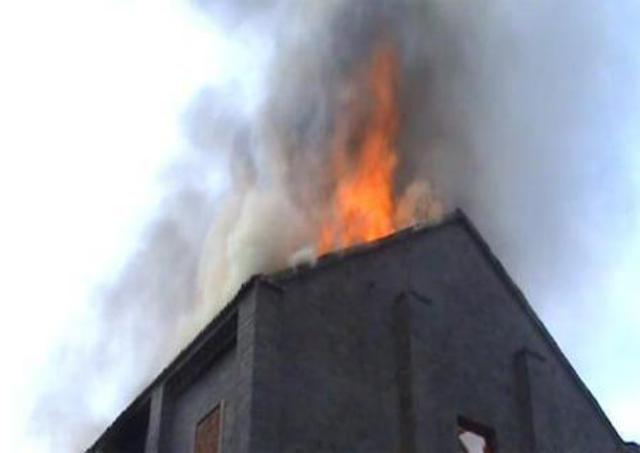fire: (320, 175, 392, 246), (357, 62, 395, 174)
